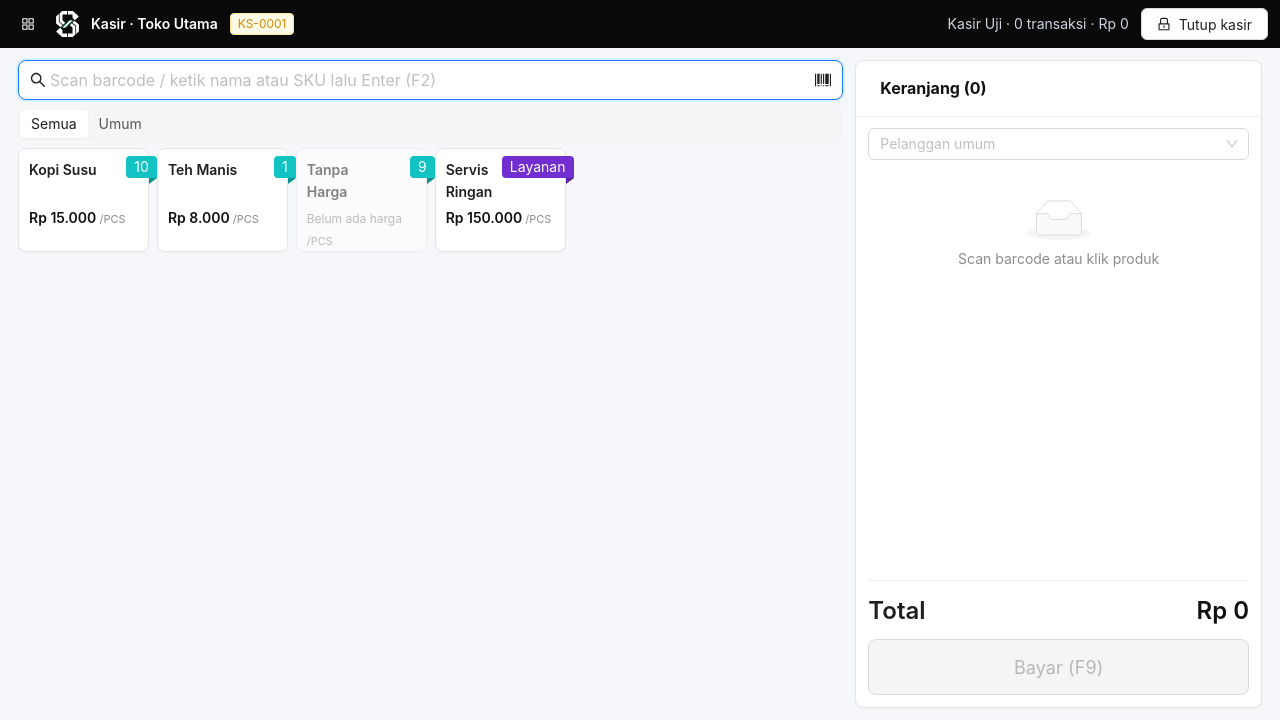
Test: Kasir (Register) › bonus barang dari promo tampil sebagai "Gratis" di keranjang
This screenshot has width=1280, height=720.
Click the text "Kopi Susu": x=63, y=170 [29,161,97,178]
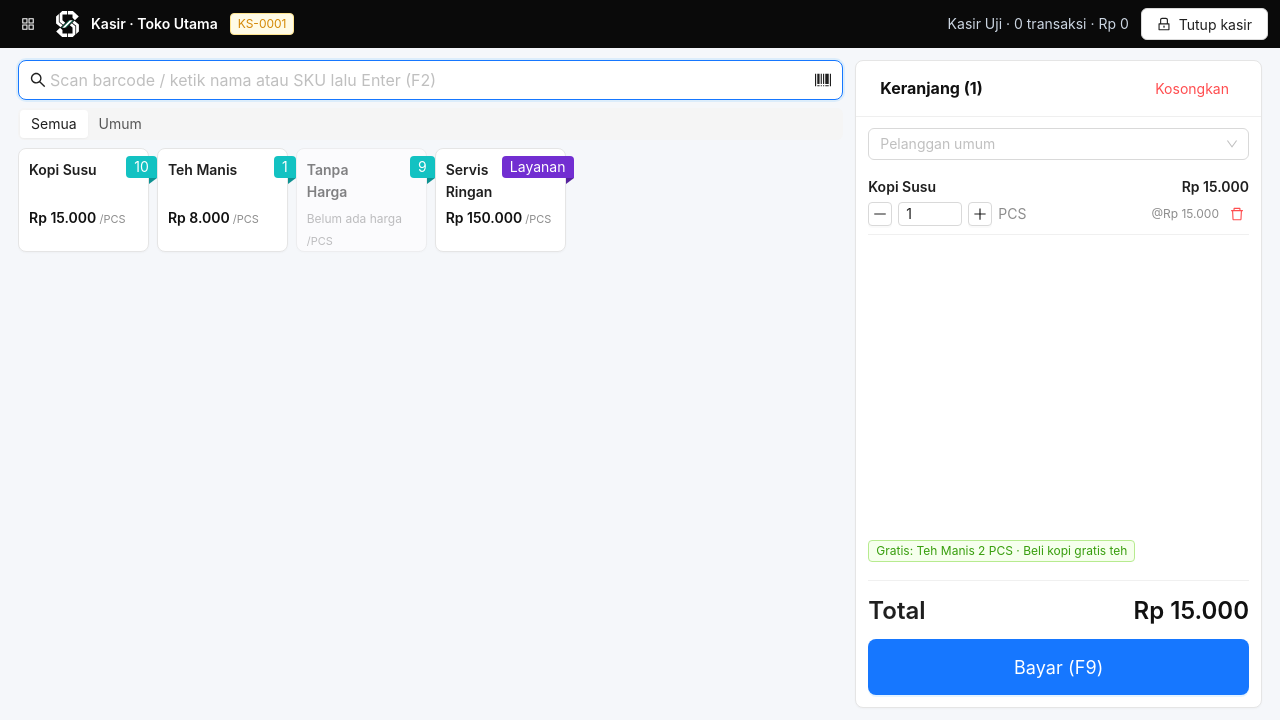
expect the text "Gratis: Teh Manis 2 PCS · Beli kopi gratis teh" is shown: met, box [868,540,1135,562]
